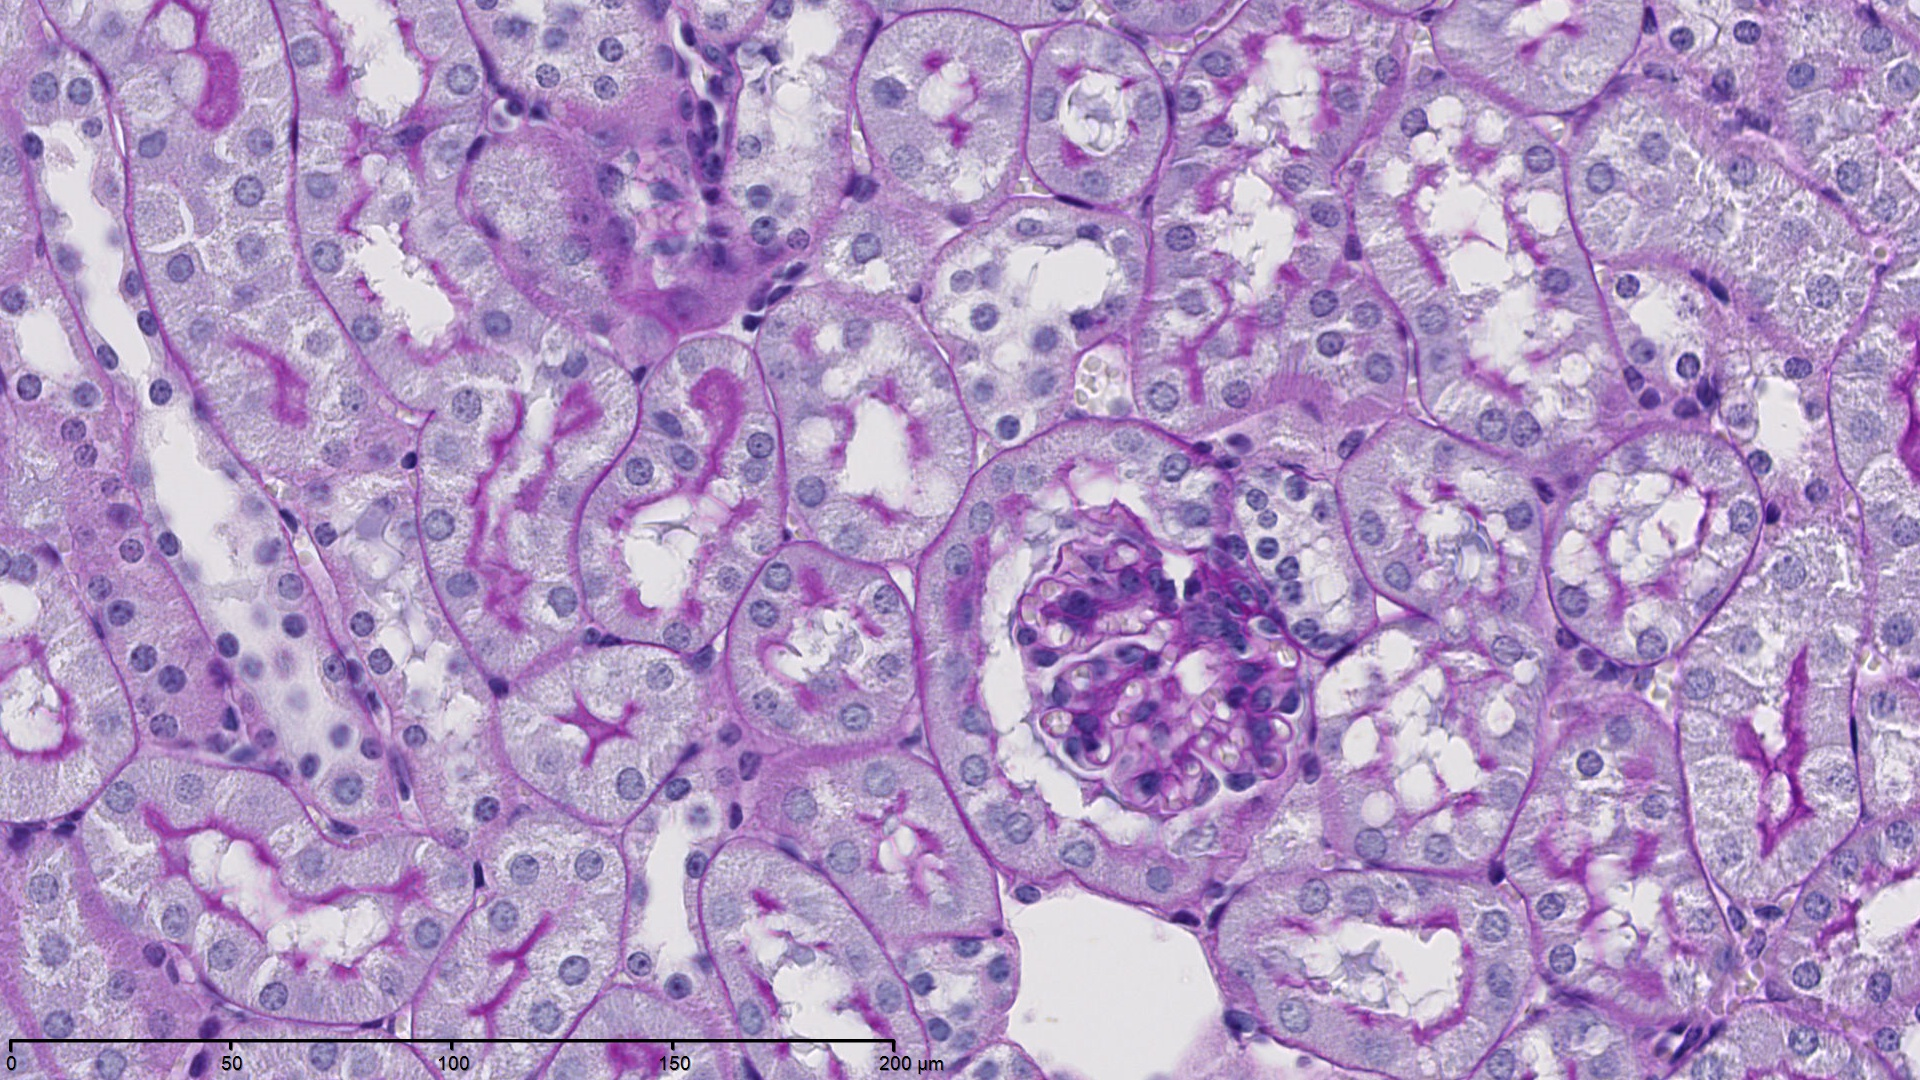Glomeruli: (988, 491, 1328, 832)
